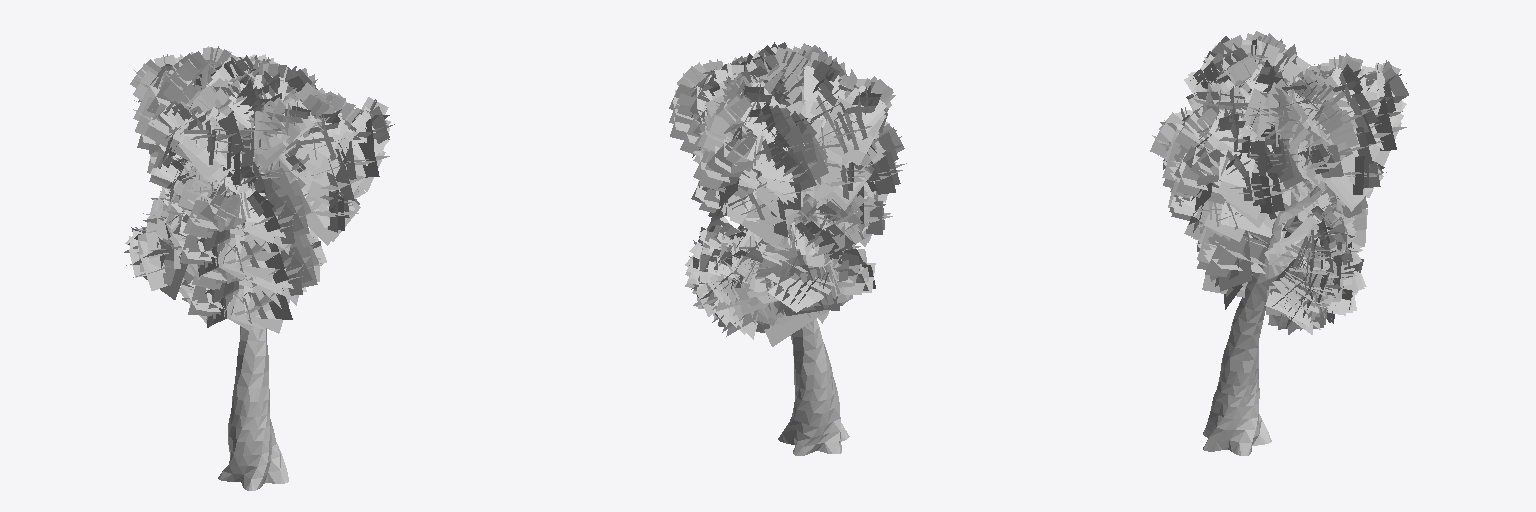
File: TwistedTree_5.obj
3 views of the same model, side by side, from view 1: azimuth 30°, elevation 25°; view 2: azimuth 150°, elevation 25°; view 3: azimuth 270°, elevation 25° (orthographic).
Visible parts, largest first — view 1: TwistedTree_5; view 2: TwistedTree_5; view 3: TwistedTree_5.
Part boxes in pixels (x1,y1,x2,y2): TwistedTree_5: (124,46,394,490); TwistedTree_5: (669,42,906,455); TwistedTree_5: (1150,31,1408,455).
Size of the model in its own units: 9.49 by 15.66 by 9.39.